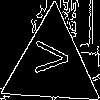V: (26, 39, 69, 75)
